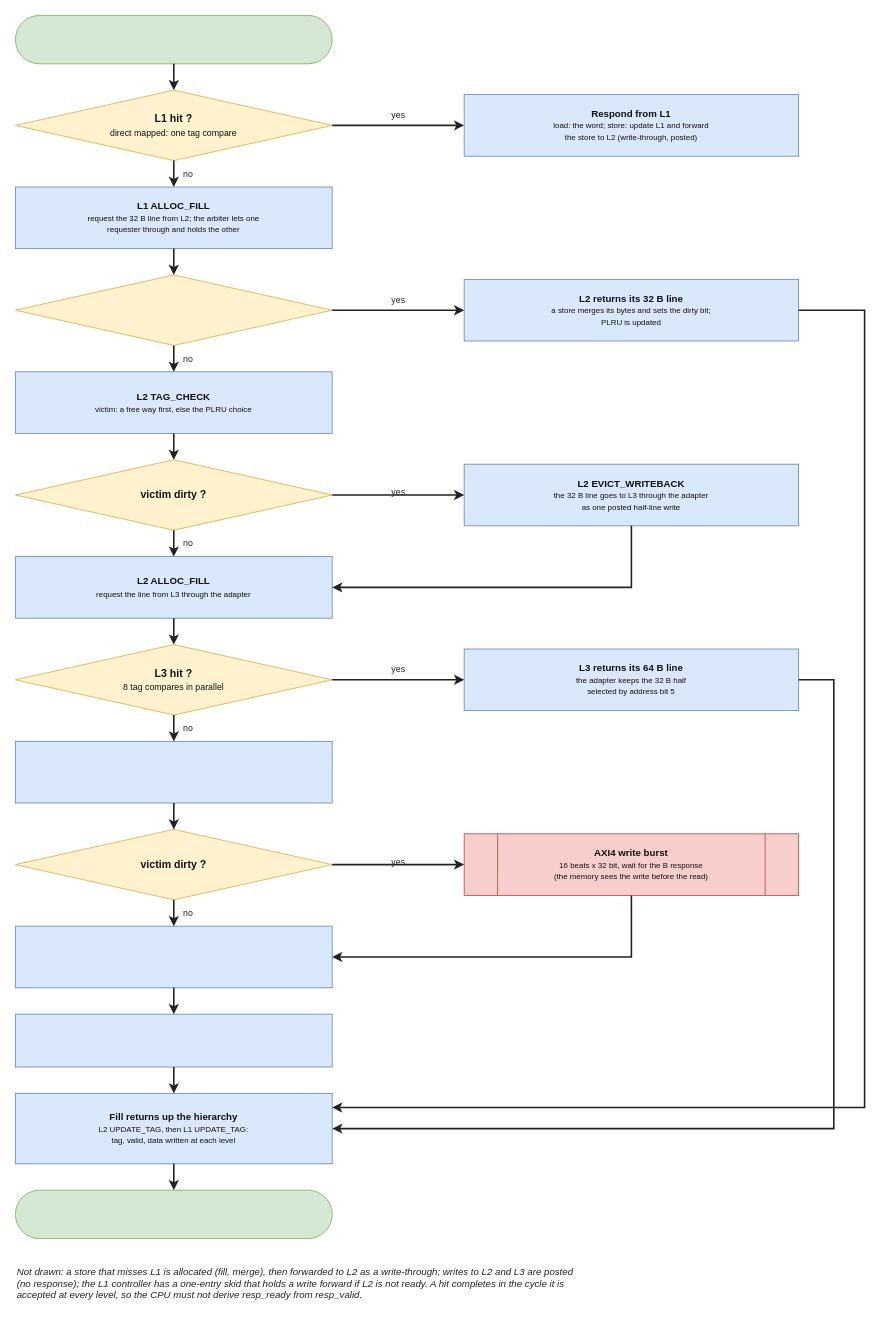
Some shapes in this 888 by 1317 pixel diagram are drawn without their labels. Here are the shapes that lost their labels. From the top down, the box of each, then its label:
(15, 15, 332, 64): CPU request at an L1 load, store or instruction fetch
(15, 274, 332, 345): L2 hit ? 4 tag compares in parallel
(15, 741, 332, 803): L3 TAG_CHECK victim: a free way first, else the PLRU choice
(15, 925, 332, 988): AXI4 read burst 16 beats x 32 bit INCR into the L3 line
(15, 1013, 332, 1067): L3 UPDATE_TAG tag, valid, data; clean
(15, 1189, 332, 1239): Response to the CPU the request is then re-presented as a hit
